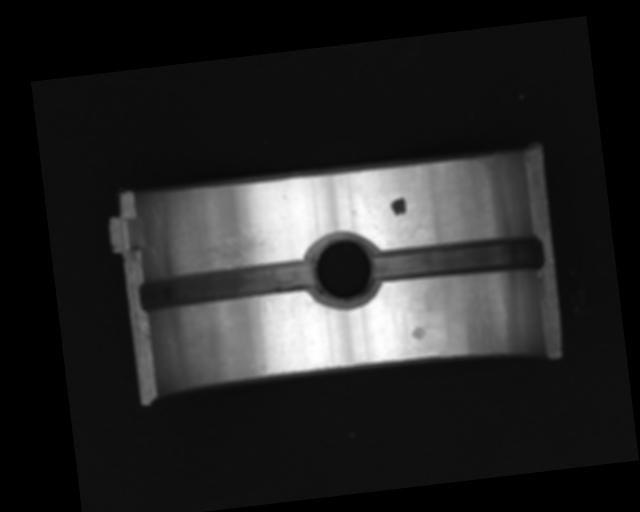blot: (389, 196, 407, 218)
bruise: (411, 324, 427, 341)
gap: (136, 257, 316, 313), (372, 231, 544, 286)
hole: (304, 231, 385, 308)
nick: (267, 299, 285, 356)
scratch: (185, 222, 267, 271)
